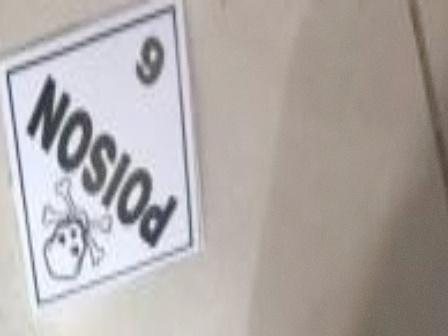poison: (1, 1, 203, 317)
